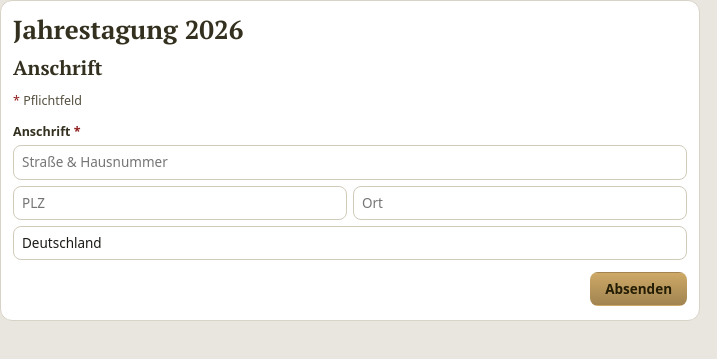
Test: FillIn – teilbefüllte Pflicht-Adresse › names every missing Teilfeld instead of a single bare „Pflichtfeld."
Only Straße is filled — PLZ and Ort stay empty, Land is never Pflicht.
In the field labelled "Straße & Hausnummer": x=350, y=163 [13,145,687,180], type "Musterstraße 12"
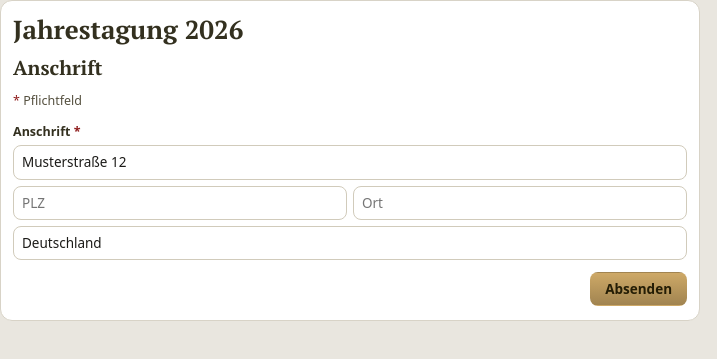
Click the button "Absenden": x=639, y=289 [590,272,687,306]
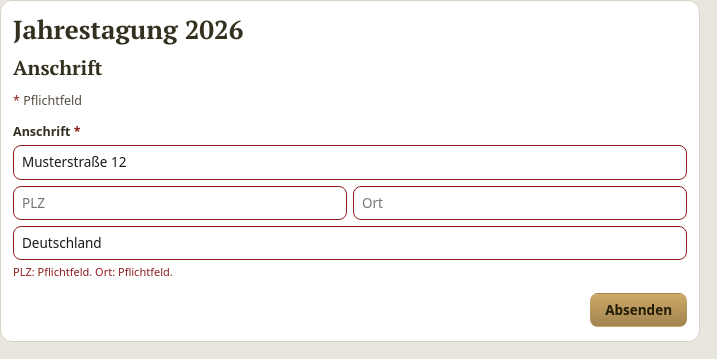
Expected: the message does not show "Straße"
Expected: the message shows "PLZ: Pflichtfeld.", [13,264,173,279]
Expected: the message shows "Ort: Pflichtfeld.", [13,264,173,279]
